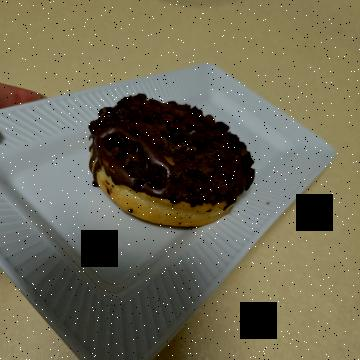doughnut: (70, 94, 235, 289)
